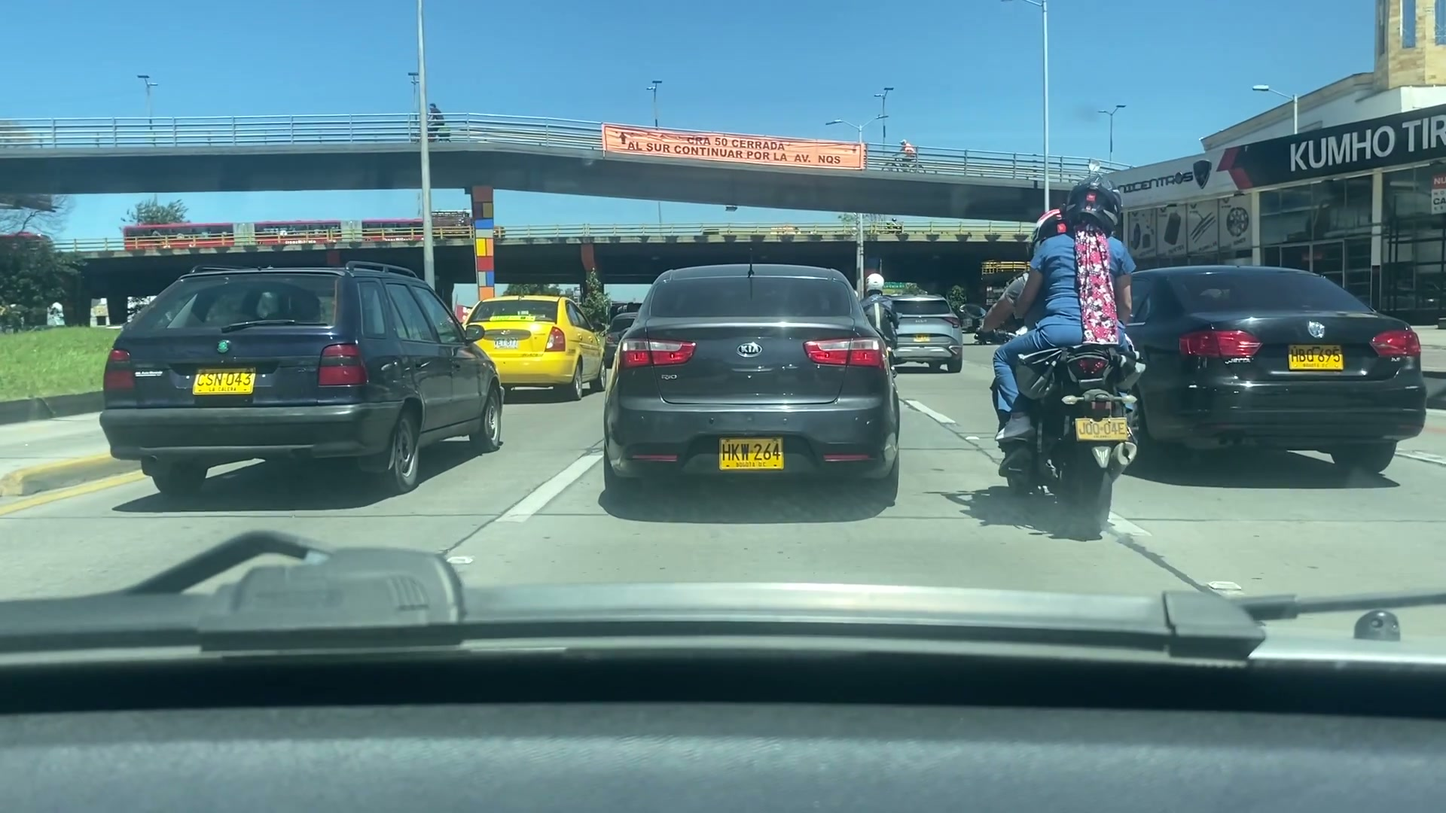car: (99, 260, 505, 495), (607, 267, 906, 503), (1117, 263, 1428, 468), (465, 298, 610, 398), (876, 290, 962, 375)
motorcycle: (972, 319, 1143, 538)
person: (994, 171, 1146, 439), (854, 271, 898, 356)
